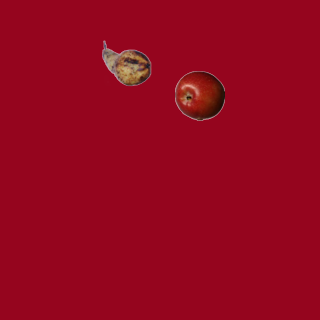Apple Braeburn: (174, 70, 224, 120)
Pear Abate: (101, 38, 151, 88)
